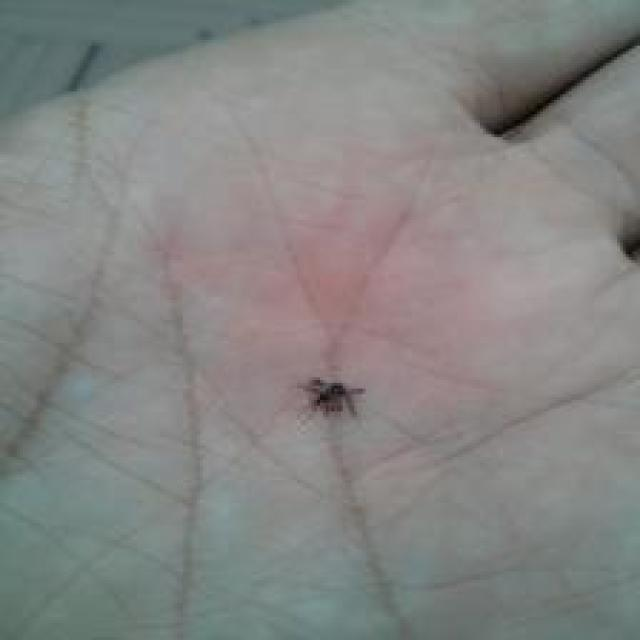Aedes albopictus: (300, 376, 366, 418)
